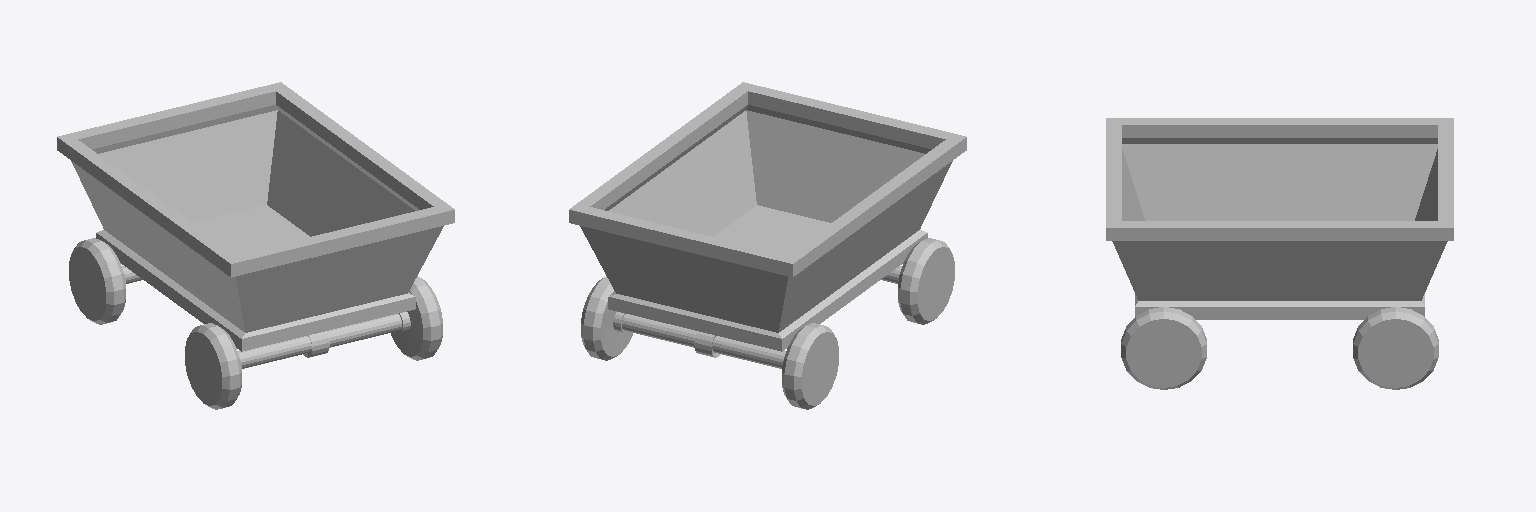
File: minecart.obj
3 views of the same model, side by side, from view 1: azimuth 30°, elevation 25°; view 2: azimuth 150°, elevation 25°; view 3: azimuth 270°, elevation 25° (orthographic).
Visible parts, largest first — view 1: Cylinder.002; view 2: Cylinder.002; view 3: Cylinder.002.
Boxes of the visible parts, x1,y1,x2,y2 form: Cylinder.002: [57, 82, 454, 409]; Cylinder.002: [569, 82, 966, 409]; Cylinder.002: [1106, 118, 1453, 389].
Bounding box in the file's own units: 2.12 × 1.5 × 2.85.